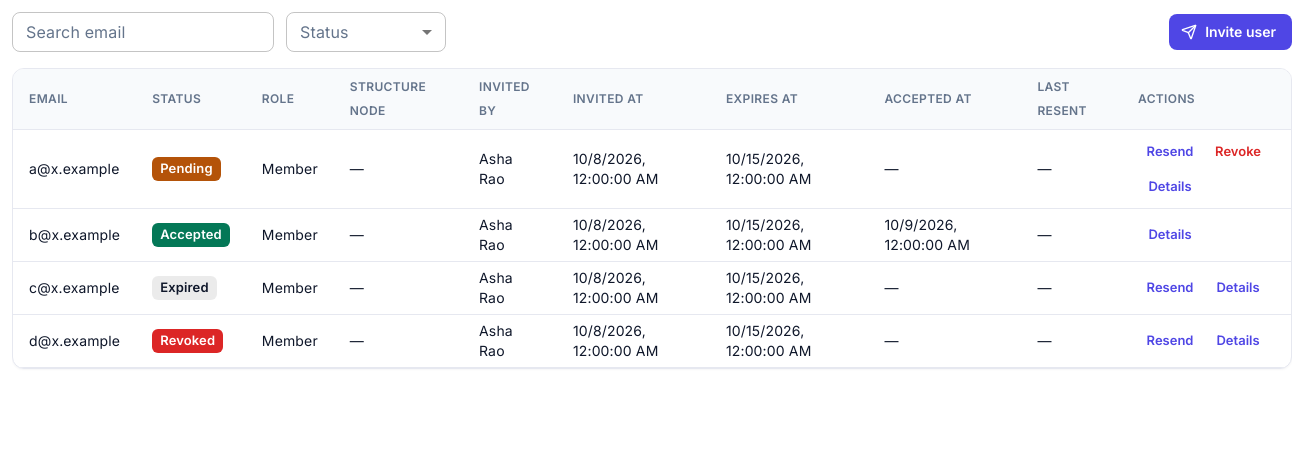
OrganizationInvitationsCard › warns when the email could not be sent
Step 1. Click the button with aria-label "Resend invitation to a@x.example" → (1170, 151), box [1138,136,1202,167]
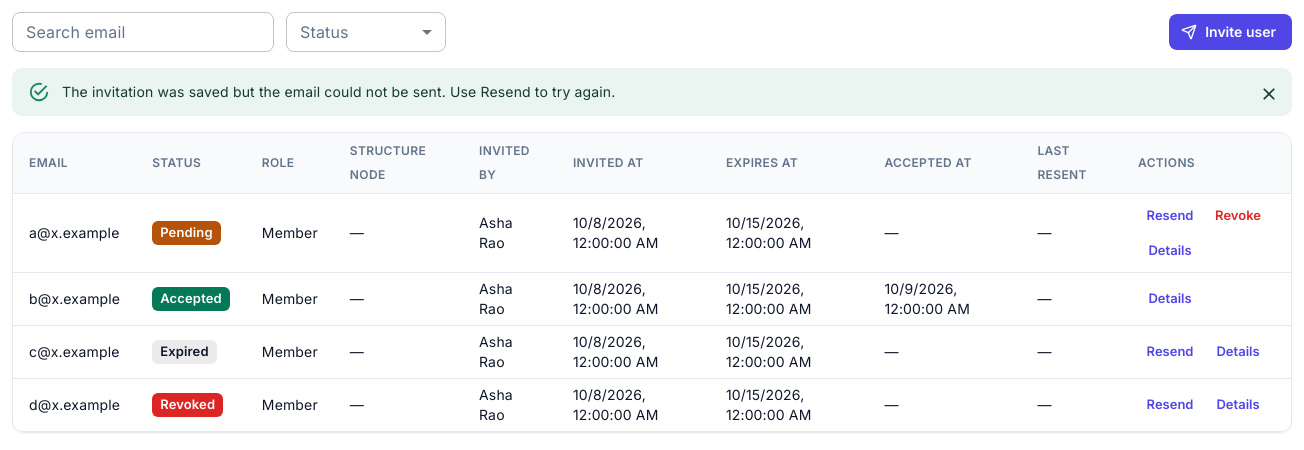
Now the text "email could not be sent" is shown, box [62,83,616,100]
